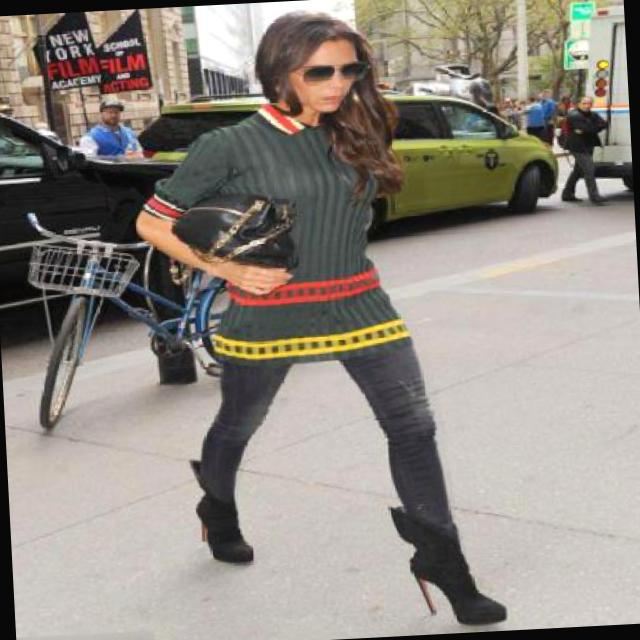Person: (179, 11, 462, 612)
